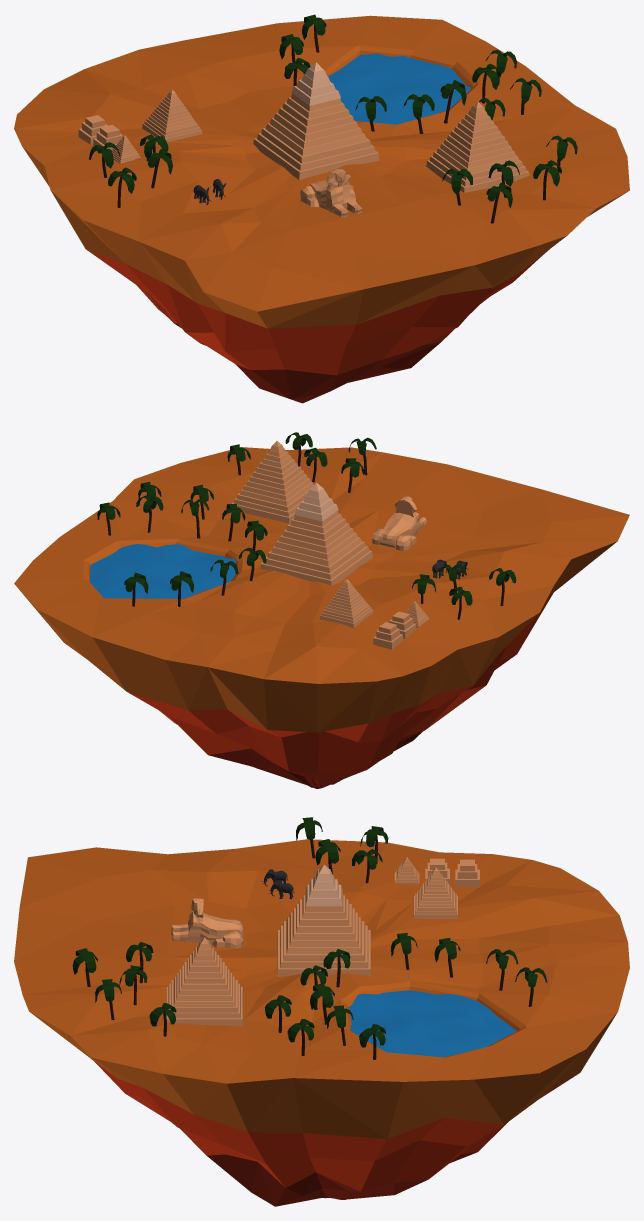
The model's file is 02 PYRAMID OF GIZA.FBX.
The picture shows the model from 3 angles, top to bottom: view 1: azimuth 30°, elevation 25°; view 2: azimuth 150°, elevation 25°; view 3: azimuth 270°, elevation 25°; orthographic projection. The views are drawn at different scales.
Parts seen in each view (by area): view 1: Object006, Object007, Plane001, Line001, Box001, Box002, Box003, Box068, Box004, Box005, Box006, Box016 (+2 smaller); view 2: Object006, Object007, Plane001, Line001, Box068, Box001, Box002, Box003, Box004, Box005, Box006, Box007; view 3: Object006, Object007, Plane001, Line001, Box068, Box002, Box005, Box003, Box001, Box004, Box006, Box016 (+4 smaller).
Boxes of the visible parts, x1,y1,x2,y2 form: Object006: (14,15,629,328); Object007: (86,249,539,375); Plane001: (328,53,470,124); Line001: (174,323,441,403); Box001: (253,138,379,180); Box002: (257,133,375,170); Box003: (261,128,371,163); Box068: (309,180,355,212); Box004: (265,123,366,155); Box005: (269,118,362,148); Box006: (274,112,358,141); Box016: (426,160,529,192); Object006: (14,447,629,732); Object007: (127,594,552,774); Plane001: (90,544,236,598); Line001: (175,723,423,788); Box068: (379,512,420,548); Box001: (260,550,372,585); Box002: (263,546,369,579); Box003: (267,541,365,572); Box004: (271,537,361,566); Box005: (275,532,357,559); Box006: (278,527,354,553); Box007: (282,523,350,546); Object006: (14,839,629,1139); Object007: (90,1058,568,1191); Plane001: (348,990,516,1057); Line001: (207,1152,476,1206); Box068: (188,911,243,943); Box002: (280,925,368,968); Box005: (289,912,358,947); Box003: (283,921,365,961); Box001: (277,930,370,976); Box004: (286,917,361,954); Box006: (292,908,355,940); Box016: (166,987,243,1025).
Size of the model in its own units: 91.74 by 58.91 by 97.67.
